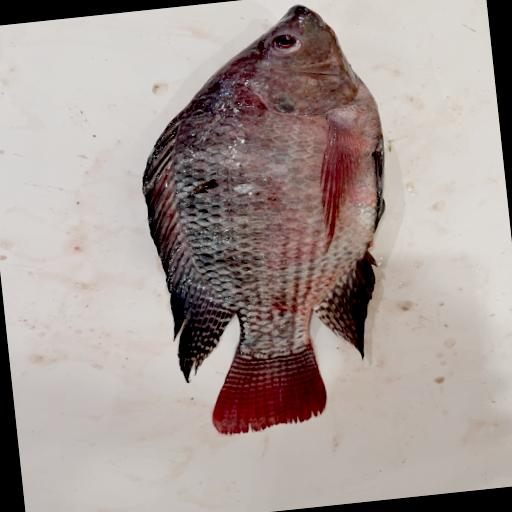Tilapia: (124, 0, 413, 442)
